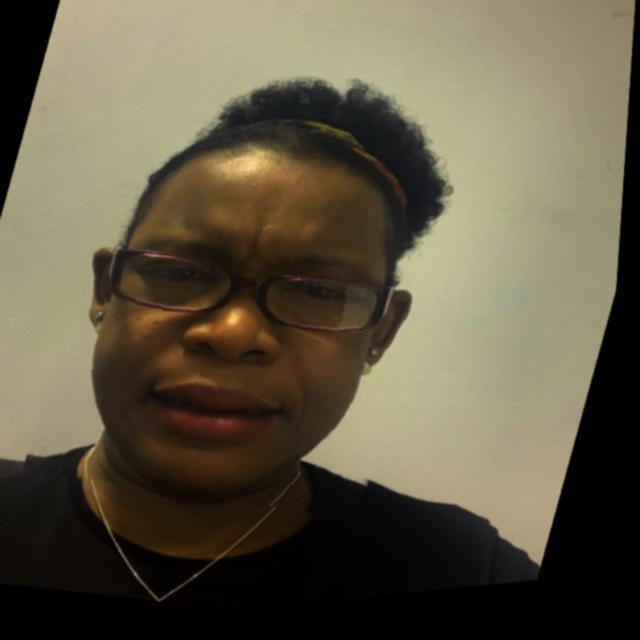sad: (26, 29, 489, 555)
